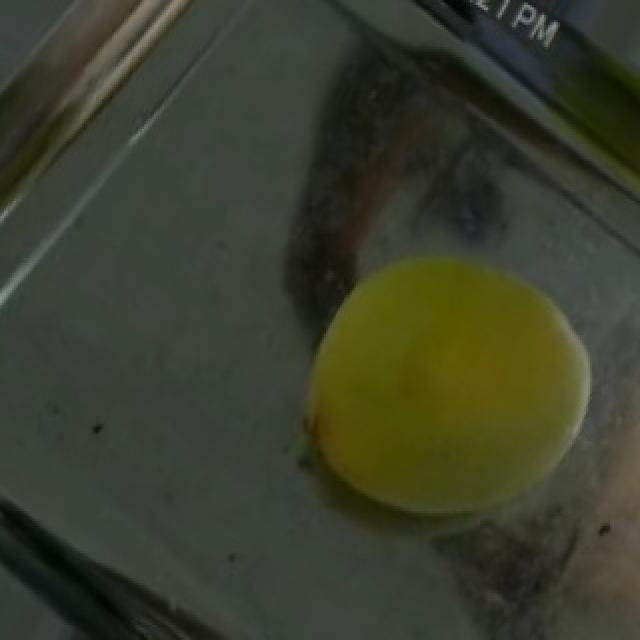fruit: (268, 184, 640, 568)
